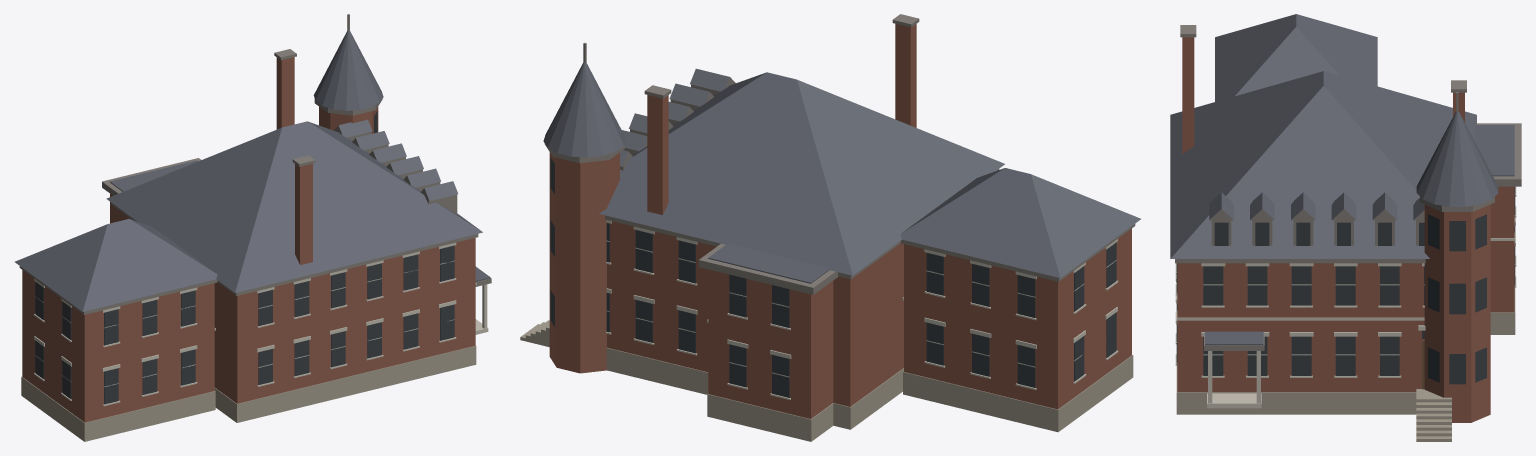
The model's file is house_1918_prairie__draft_1904.glb.
3 renders of one model, left to right at view 1: azimuth 30°, elevation 25°; view 2: azimuth 150°, elevation 25°; view 3: azimuth 270°, elevation 25°, orthographic. The views are drawn at different scales.
Parts seen in each view (by area): view 1: house_1918_prairie__draft_1904; view 2: house_1918_prairie__draft_1904; view 3: house_1918_prairie__draft_1904.
Boxes of the visible parts, x1,y1,x2,y2 form: house_1918_prairie__draft_1904: [14, 14, 491, 441]; house_1918_prairie__draft_1904: [520, 14, 1140, 441]; house_1918_prairie__draft_1904: [1170, 14, 1521, 441].
Bounding box in the file's own units: 29.4 × 17.6 × 17.7.
